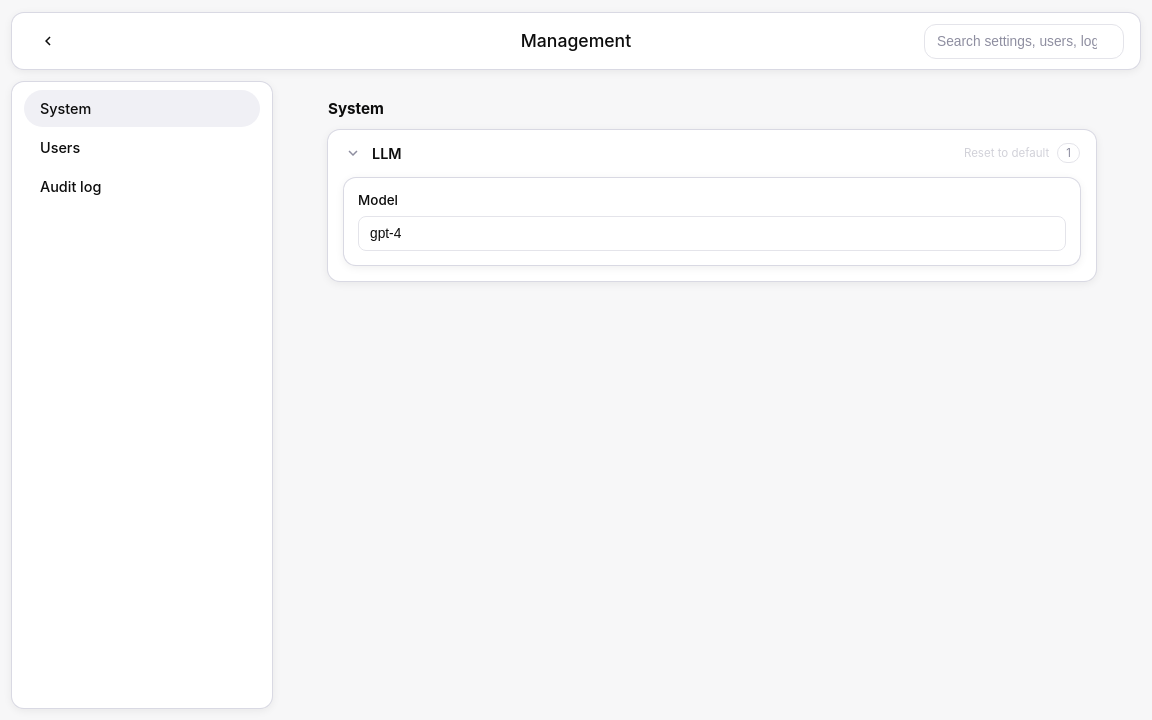
Scenario: SettingsPage admin tabs › shows users and audit tabs for admins
Check: the heading "Management" is shown, box [521,30,631,52]
Check: the heading "System" is shown, box [328,99,384,118]
Click the tab "Users".
click(142, 148)  # box [24,129,260,166]
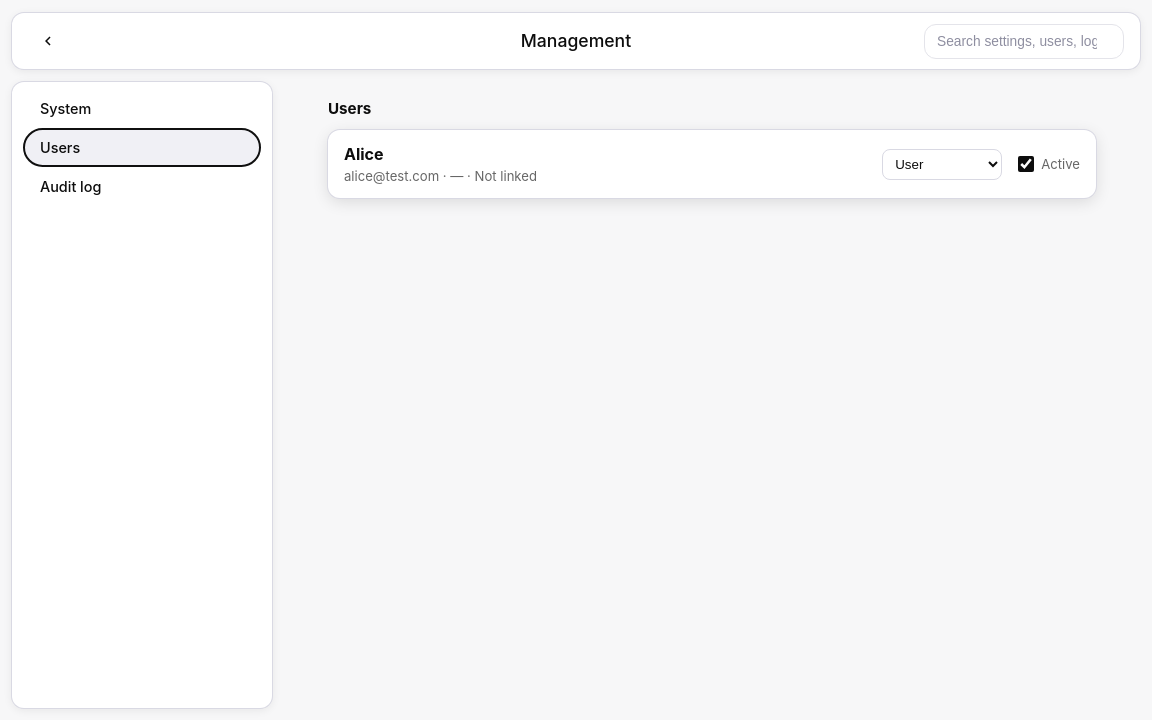
Check: the text "Alice" is shown, box [344,144,384,164]
Click the tab "Audit log".
click(142, 186)  # box [24,168,260,205]
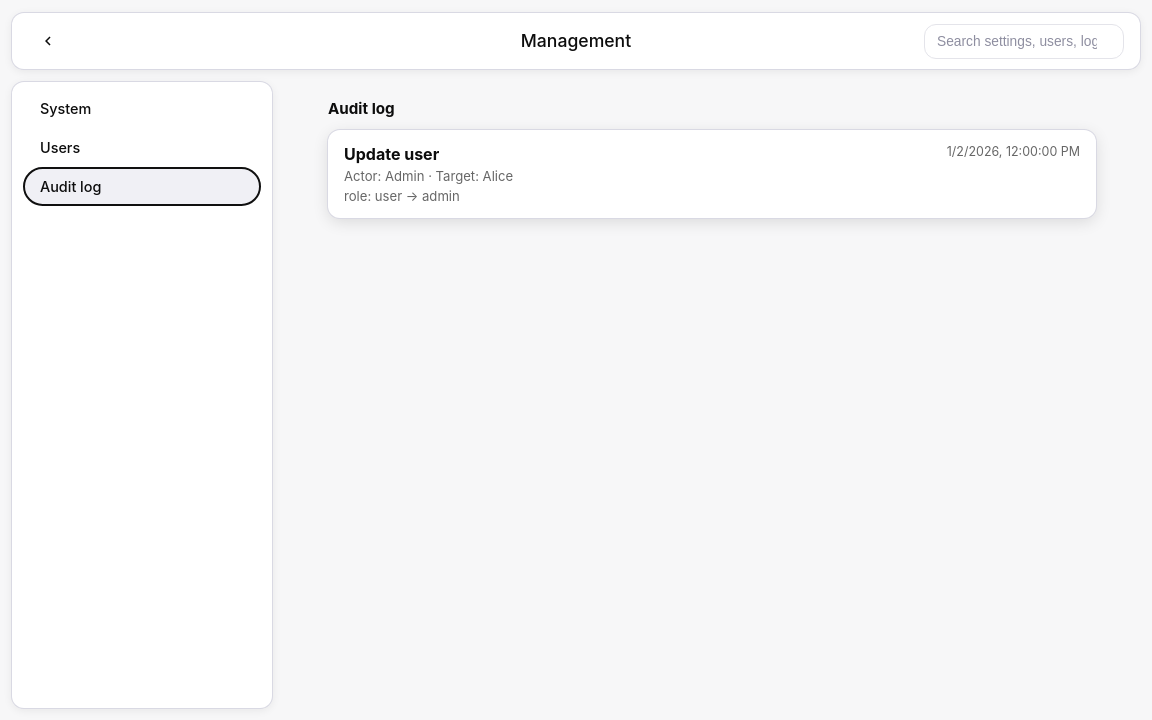
Check: the text "Update user" is shown, box [344,144,439,164]
